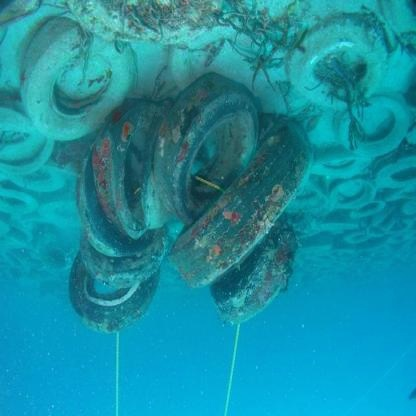net: (218, 323, 245, 416), (108, 330, 124, 416)
tire: (160, 115, 320, 288), (154, 73, 263, 227), (7, 13, 130, 132), (190, 232, 302, 318), (290, 14, 382, 106), (96, 101, 152, 246), (72, 154, 144, 265), (64, 250, 161, 323), (331, 86, 409, 165), (1, 104, 57, 178), (6, 162, 71, 193), (291, 180, 338, 222), (310, 143, 364, 177), (325, 176, 376, 208), (375, 155, 416, 188), (39, 198, 84, 225), (1, 187, 40, 215), (379, 208, 413, 237), (4, 214, 33, 247), (38, 238, 68, 267), (346, 196, 384, 216), (340, 231, 367, 247)
